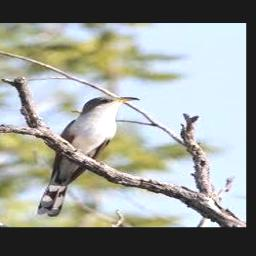Cuckoo: (37, 96, 140, 217)
